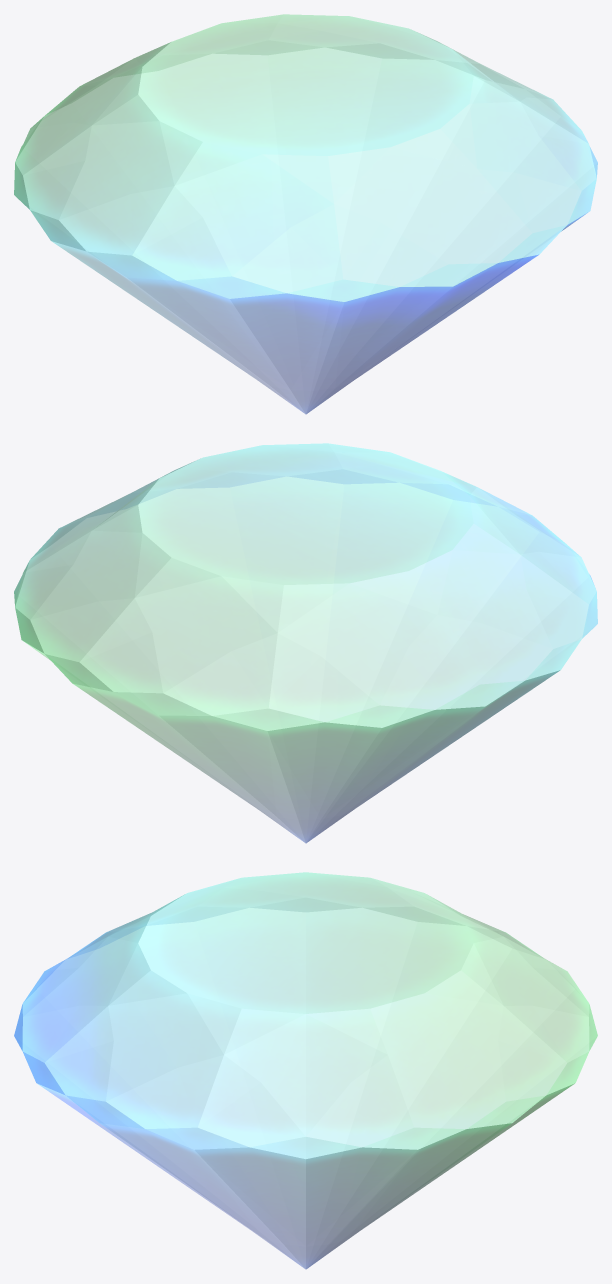
File: diamond.glb
3 views of the same model, one above another, from view 1: azimuth 30°, elevation 25°; view 2: azimuth 150°, elevation 25°; view 3: azimuth 270°, elevation 25° (orthographic).
Parts seen in each view (by area): view 1: pCone1_DiamondOutside_0; view 2: pCone1_DiamondOutside_0; view 3: pCone1_DiamondOutside_0.
Part boxes in pixels (x1,y1,x2,y2): pCone1_DiamondOutside_0: [14, 14, 597, 414]; pCone1_DiamondOutside_0: [14, 443, 597, 843]; pCone1_DiamondOutside_0: [14, 872, 597, 1269].
Size of the model in its own units: 2 by 1.23 by 2.
